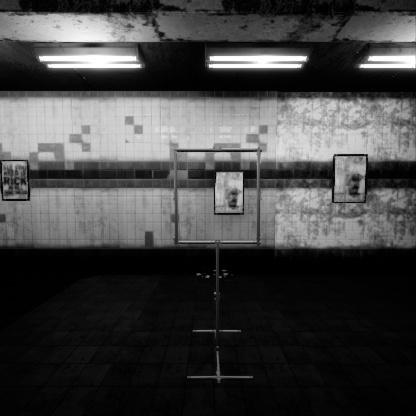gate: (174, 170, 269, 268)
